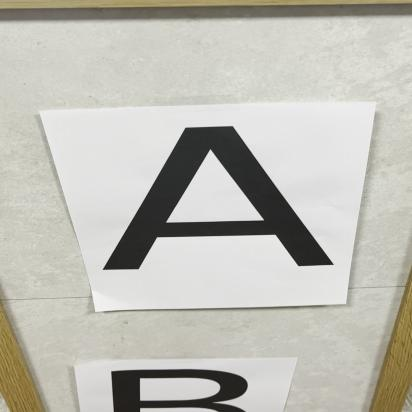seat: (105, 122, 356, 280)
